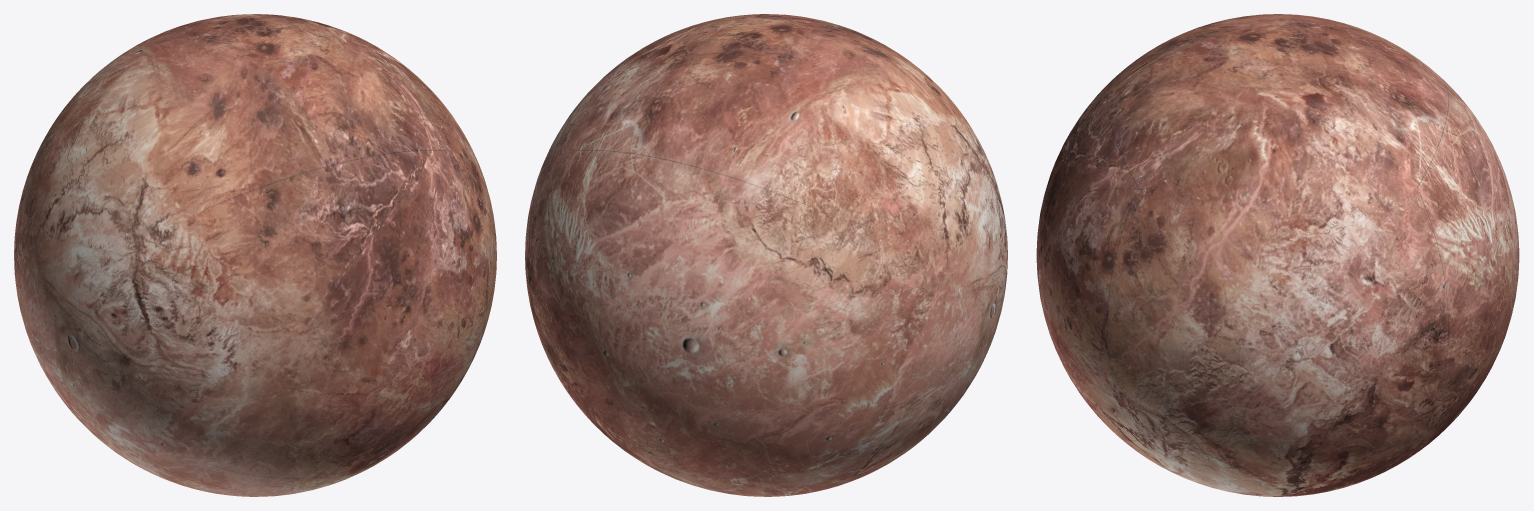
Rendered from nova.glb.
3 views of the same model, side by side, from view 1: azimuth 30°, elevation 25°; view 2: azimuth 150°, elevation 25°; view 3: azimuth 270°, elevation 25° (orthographic).
Parts seen in each view (by area): view 1: Phoenix_LOD0__0; view 2: Phoenix_LOD0__0; view 3: Phoenix_LOD0__0.
Boxes of the visible parts, bbox=[...] form: Phoenix_LOD0__0: bbox=[14, 14, 496, 496]; Phoenix_LOD0__0: bbox=[525, 14, 1007, 496]; Phoenix_LOD0__0: bbox=[1036, 14, 1519, 496].
Bounding box in the file's own units: 3.41 × 3.41 × 3.41.
Materials: 1 (1 with a texture image).
